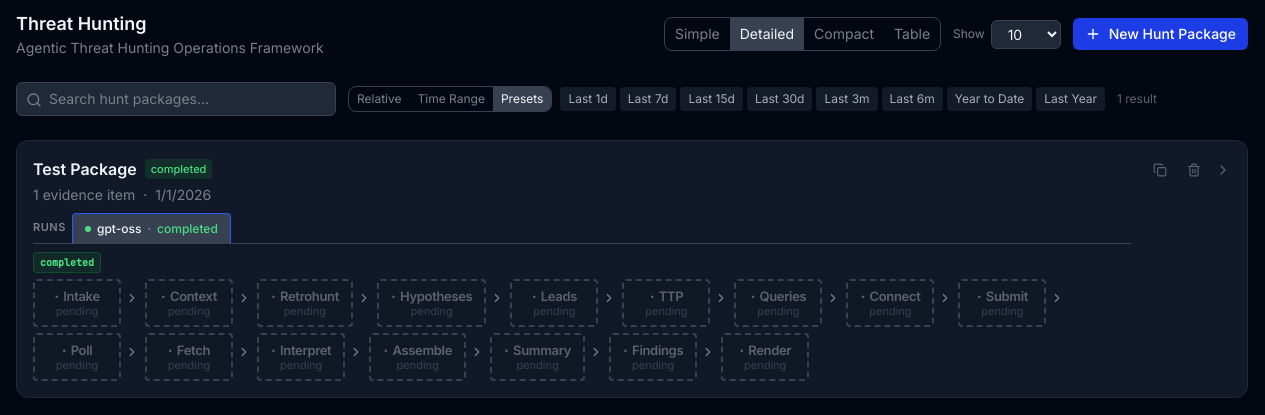
Test: ThreatHunting list — Table density mode (issue-local-017) › switching to Table mode replaces the card list with a per-package runs table
The image size is (1265, 415).
Expected: the text "Test Package" is shown, left=33, top=157, right=137, bottom=181
Expected: the text "Model" is not shown
Click the button "Table".
click(912, 34)  # box left=884, top=18, right=940, bottom=50
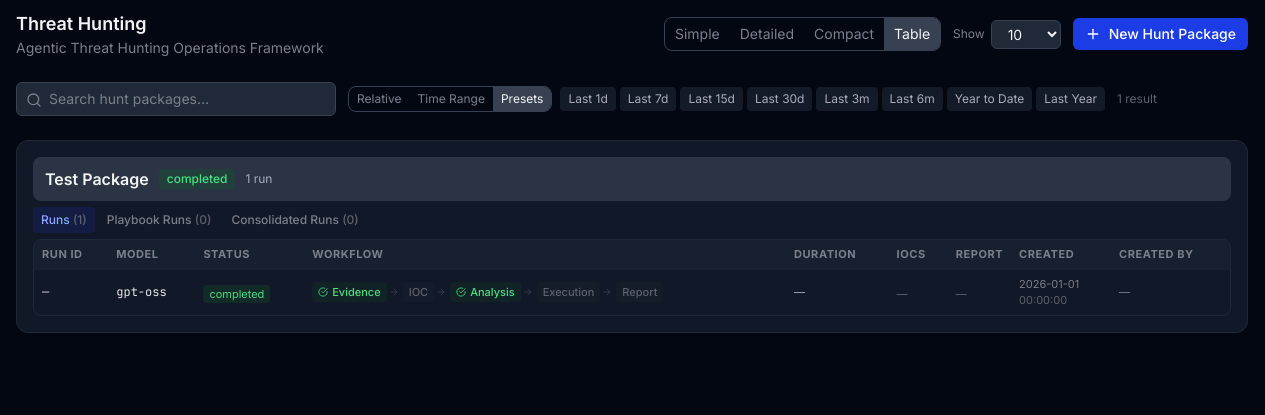
Expected: the button "gpt-oss" is shown, left=116, top=283, right=167, bottom=301
Now the column heading "Model" is shown, box left=108, top=240, right=195, bottom=269
Now the column heading "Workflow" is shown, box left=304, top=240, right=786, bottom=269
